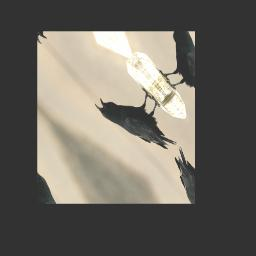Crow: (94, 68, 187, 171)
